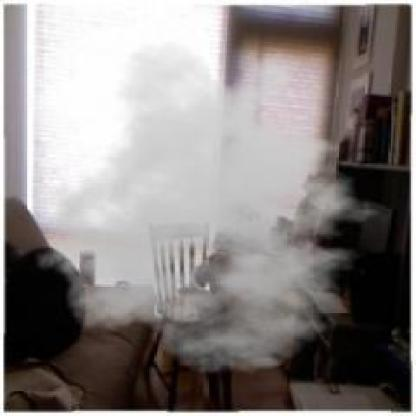Smoke: (26, 39, 395, 375)
